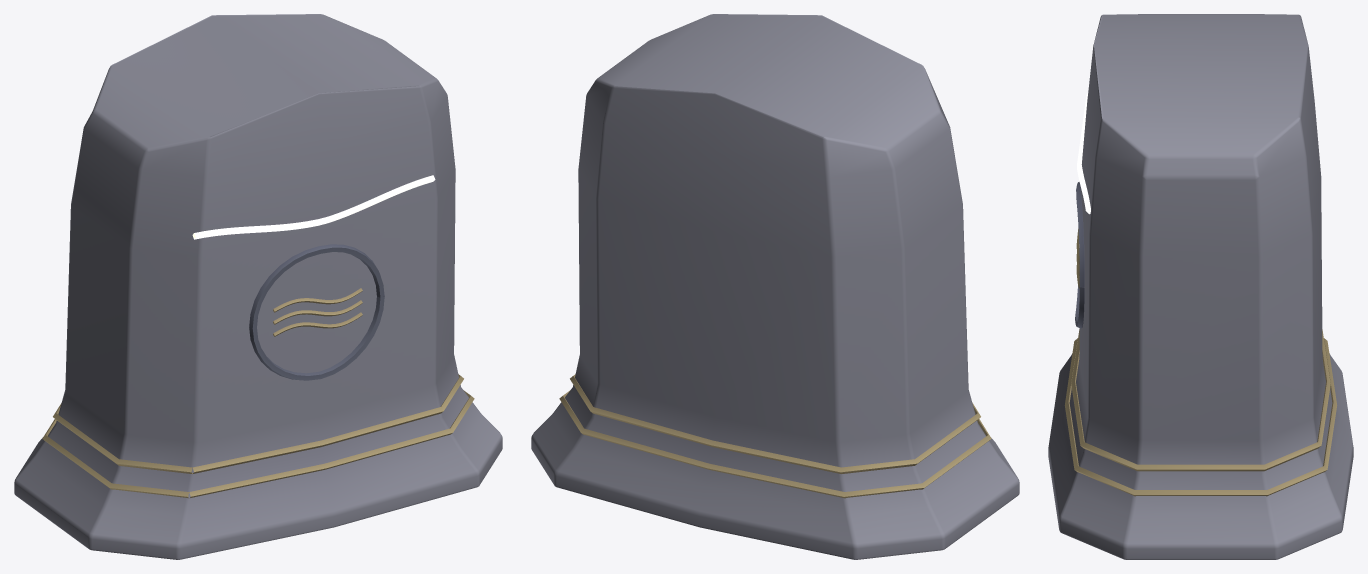
File: pr_singstone.glb
3 views of the same model, side by side, from view 1: azimuth 30°, elevation 25°; view 2: azimuth 150°, elevation 25°; view 3: azimuth 270°, elevation 25° (orthographic).
Parts seen in each view (by area): view 1: PR_singstone__body, PR_singstone__rune; view 2: PR_singstone__body; view 3: PR_singstone__body, PR_singstone__rune.
Part boxes in pixels (<box>): PR_singstone__body: <box>14,14,502,559</box>; PR_singstone__rune: <box>192,175,435,239</box>; PR_singstone__body: <box>531,14,1019,559</box>; PR_singstone__body: <box>1048,14,1353,559</box>; PR_singstone__rune: <box>1077,93,1090,214</box>.
Size of the model in its own units: 1.04 by 1 by 0.6608.
